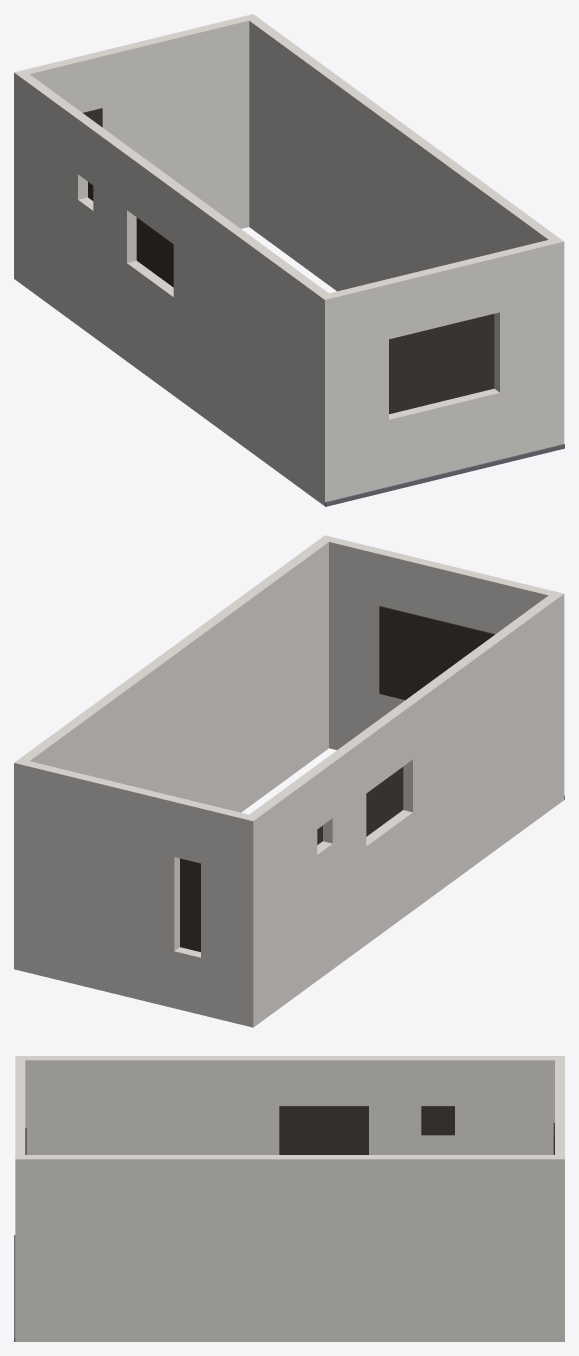
File: SM_Floor_NarrowUpperWindowEndL_White_364_Back_01.gltf
The picture shows the model from 3 angles, top to bottom: view 1: azimuth 30°, elevation 25°; view 2: azimuth 150°, elevation 25°; view 3: azimuth 270°, elevation 25°; orthographic projection. The views are drawn at different scales.
Parts seen in each view (by area): view 1: SM_Floor_NarrowUpperWindowEndL_White_364_Back_01; view 2: SM_Floor_NarrowUpperWindowEndL_White_364_Back_01; view 3: SM_Floor_NarrowUpperWindowEndL_White_364_Back_01.
Part boxes in pixels (x1,y1,x2,y2): SM_Floor_NarrowUpperWindowEndL_White_364_Back_01: (14, 14, 564, 506); SM_Floor_NarrowUpperWindowEndL_White_364_Back_01: (14, 535, 564, 1027); SM_Floor_NarrowUpperWindowEndL_White_364_Back_01: (14, 1056, 564, 1341).
Size of the model in its own units: 3.64 by 3 by 8.21.
1 material, 1 textured.
